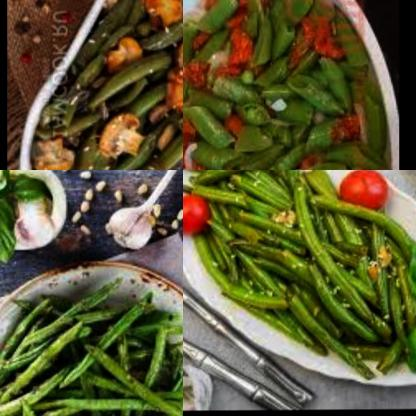fasol: (183, 170, 416, 345), (183, 5, 369, 170), (0, 282, 183, 416), (75, 0, 169, 106), (81, 53, 178, 119), (158, 71, 183, 170), (140, 0, 183, 52), (65, 121, 106, 170)
garlic: (101, 194, 160, 260)
tomato: (332, 170, 392, 218), (183, 189, 217, 241)
